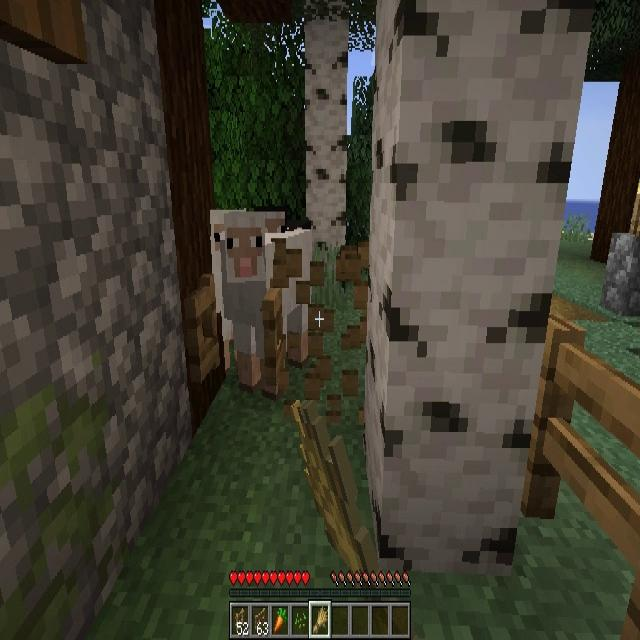sheep: (227, 214, 318, 390), (208, 207, 251, 371)
